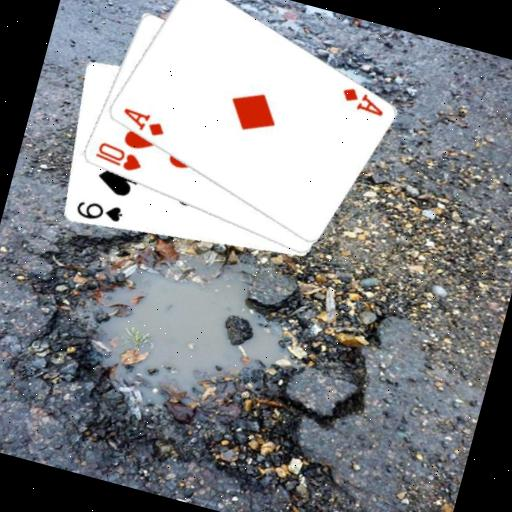10H: (89, 138, 146, 176)
6S: (71, 193, 126, 229)
AD: (115, 103, 169, 140), (335, 82, 389, 119)
